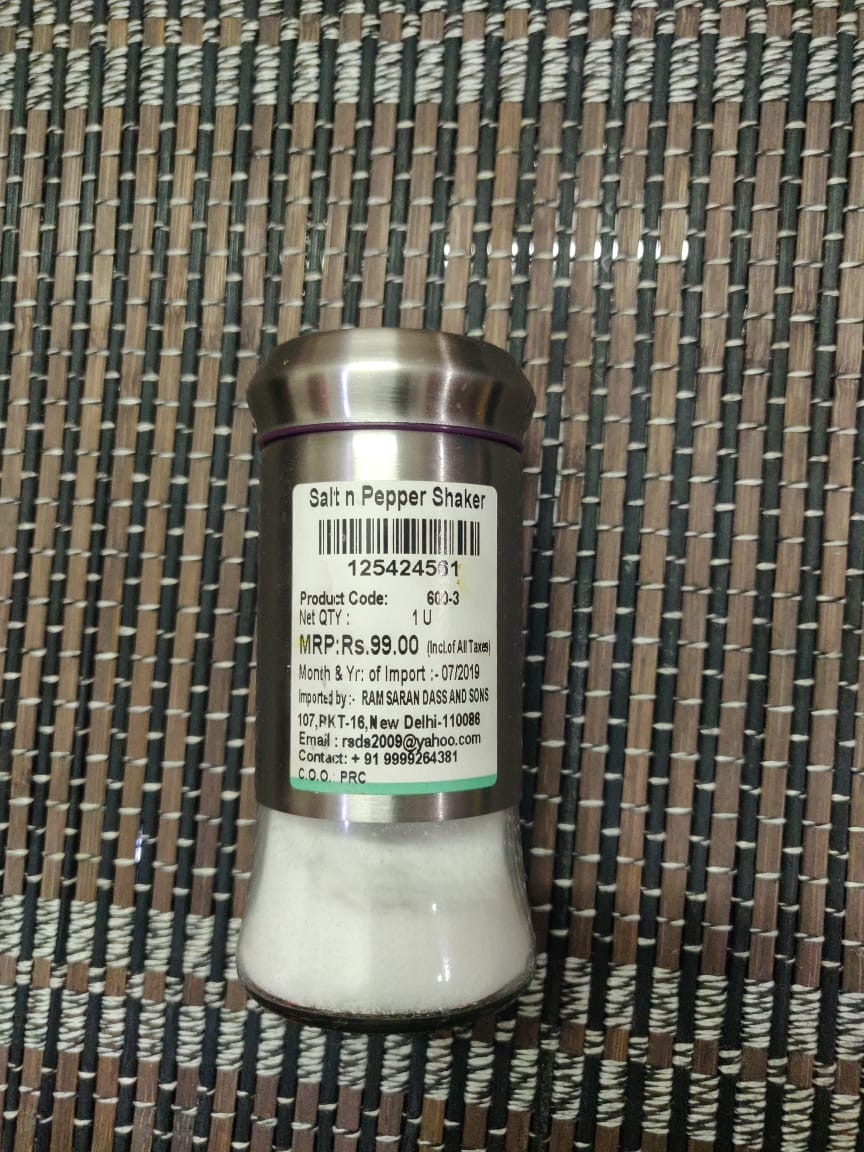barcode: (304, 507, 495, 584)
